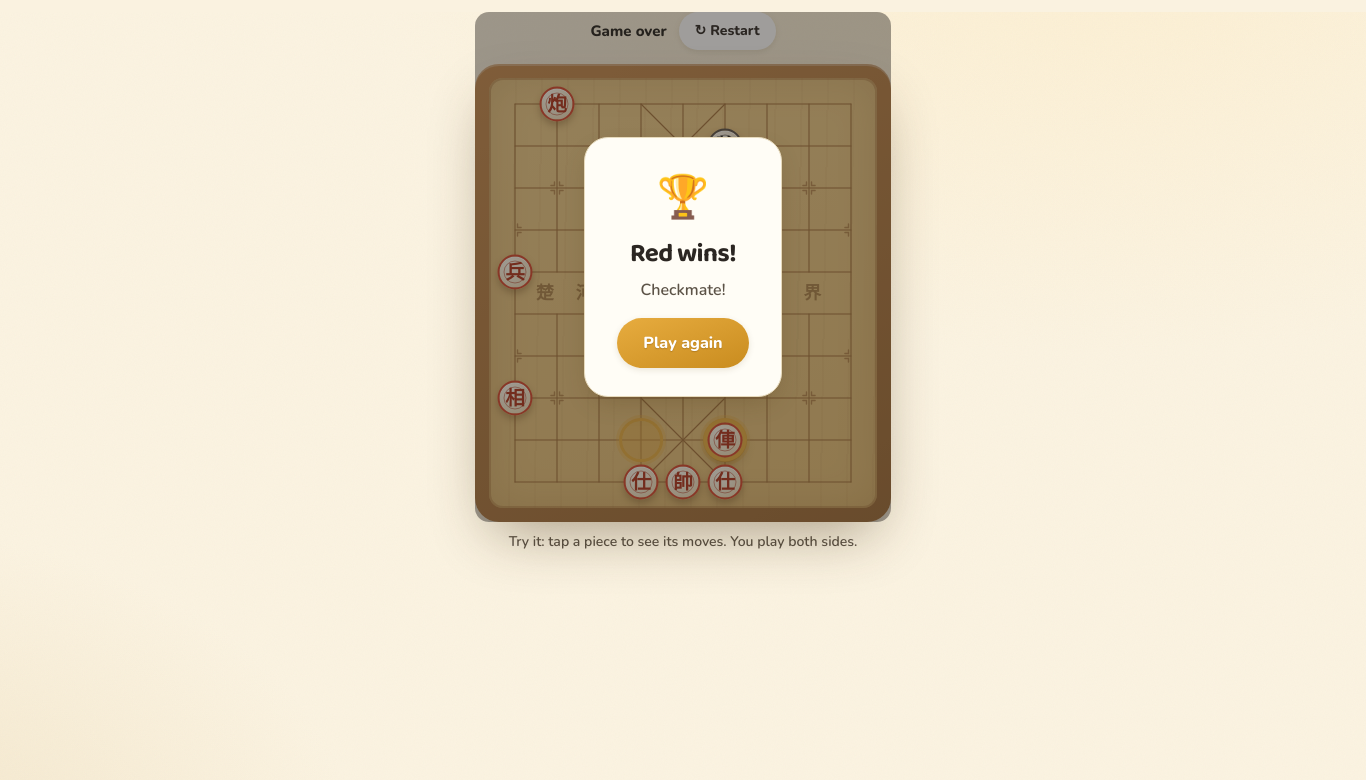
HomeDemoBoard › play again clears storage and resets the board
What coordinates should you click on to do the following:
click the button with test id "home-demo-play-again"
I would click on:
 (683, 343)
Its box is [617,318,749,368].
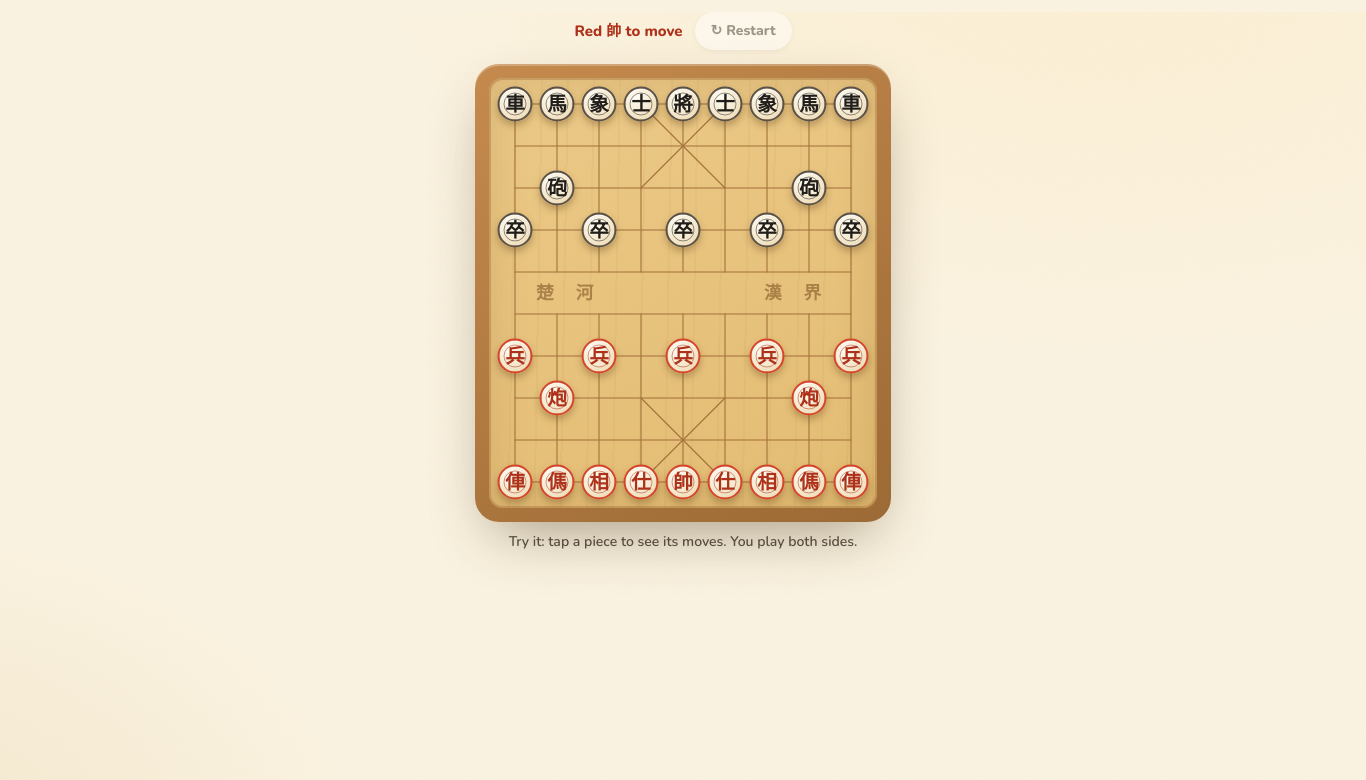
Check: the element with test id "home-demo-game-over" is gone
Check: the text with test id "home-demo-turn" reads "Red 帥 to move", box [574,21,682,41]
